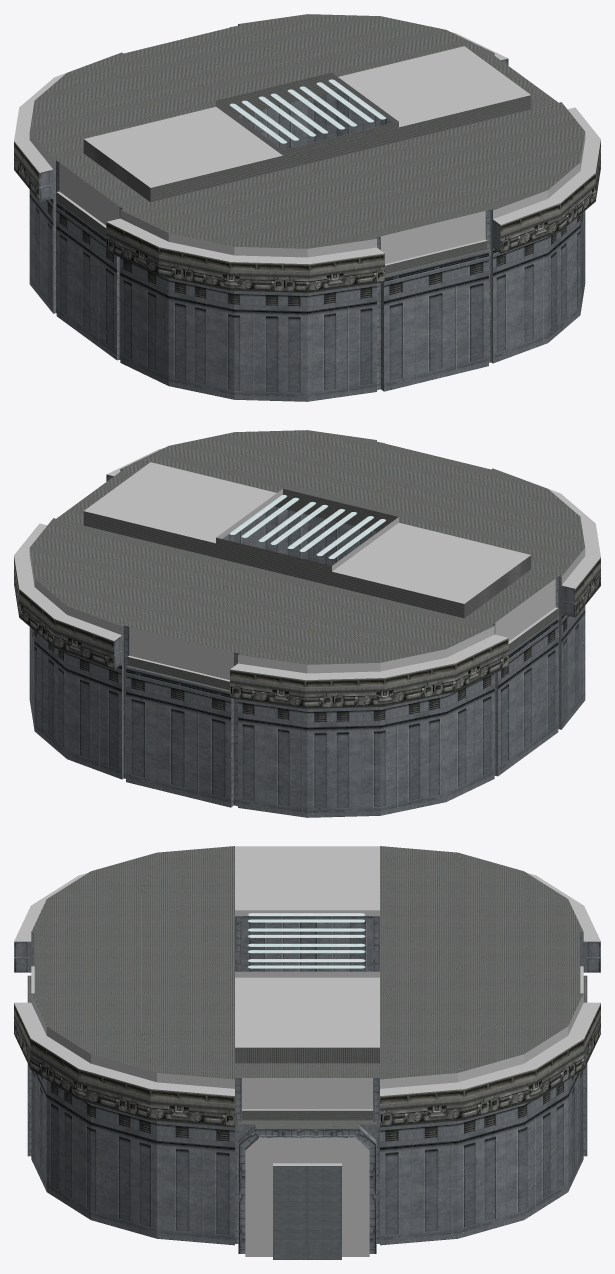
The model's file is poi_all_impl_bunker_small_outpost_s01_r28_cell5_mesh.fbx.
The picture shows the model from 3 angles, top to bottom: view 1: azimuth 30°, elevation 25°; view 2: azimuth 150°, elevation 25°; view 3: azimuth 270°, elevation 25°; orthographic projection. The views are drawn at different scales.
Visible parts, largest first — view 1: mesh_node; view 2: mesh_node; view 3: mesh_node.
Boxes of the visible parts, box(x1,y1,x2,y2) form: mesh_node: box(14, 14, 600, 401); mesh_node: box(14, 430, 600, 817); mesh_node: box(14, 846, 600, 1259).
Bounding box in the file's own units: 17.5 × 6 × 17.
